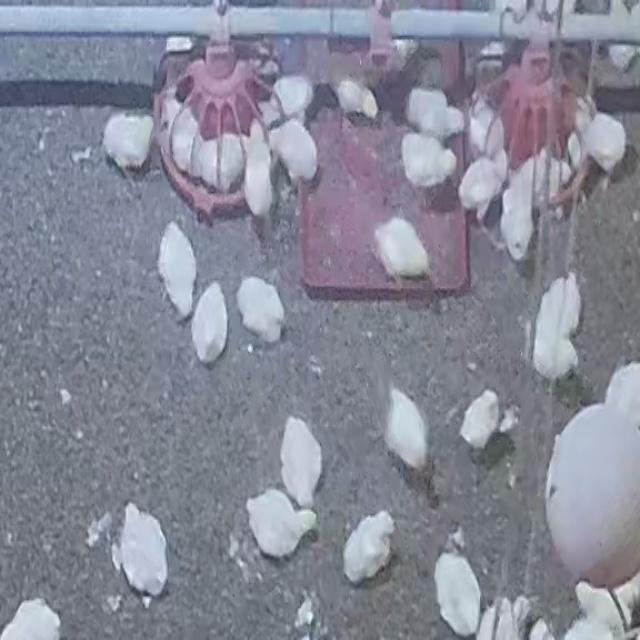chicken: (118, 502, 169, 598), (245, 490, 314, 560), (433, 551, 482, 637), (280, 417, 324, 509), (374, 216, 431, 285), (341, 511, 394, 585), (385, 386, 430, 473), (157, 222, 196, 318), (235, 277, 288, 344), (190, 282, 228, 366), (400, 131, 454, 190), (102, 111, 154, 172), (243, 121, 274, 222), (271, 118, 318, 184), (477, 589, 537, 640), (404, 86, 462, 138), (574, 578, 632, 630), (499, 181, 534, 266), (195, 134, 245, 192), (582, 111, 627, 174), (457, 157, 505, 216), (531, 328, 582, 380), (515, 154, 573, 198), (466, 92, 504, 156), (2, 599, 61, 640), (460, 392, 500, 451), (544, 278, 584, 332), (606, 363, 640, 426), (336, 76, 380, 122), (272, 75, 314, 122), (169, 105, 198, 173), (160, 88, 183, 136), (608, 43, 637, 71)
